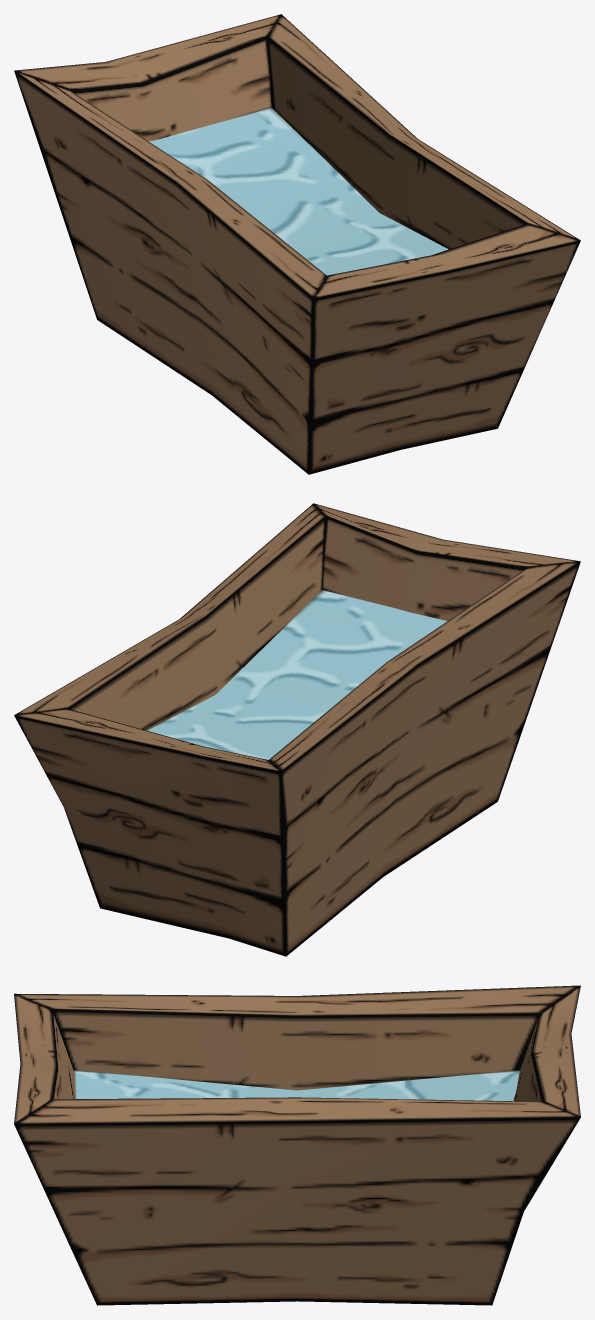
File: koryto1_woda.fbx
The picture shows the model from 3 angles, top to bottom: view 1: azimuth 30°, elevation 25°; view 2: azimuth 150°, elevation 25°; view 3: azimuth 270°, elevation 25°; orthographic projection. The views are drawn at different scales.
Parts seen in each view (by area): view 1: koryto1 woda; view 2: koryto1 woda; view 3: koryto1 woda.
Part boxes in pixels (x1,y1,x2,y2): koryto1 woda: (14,14,580,474); koryto1 woda: (14,503,580,956); koryto1 woda: (14,985,580,1305).
Size of the model in its own units: 141 by 114 by 274.
Materials: 1 (1 with a texture image).
